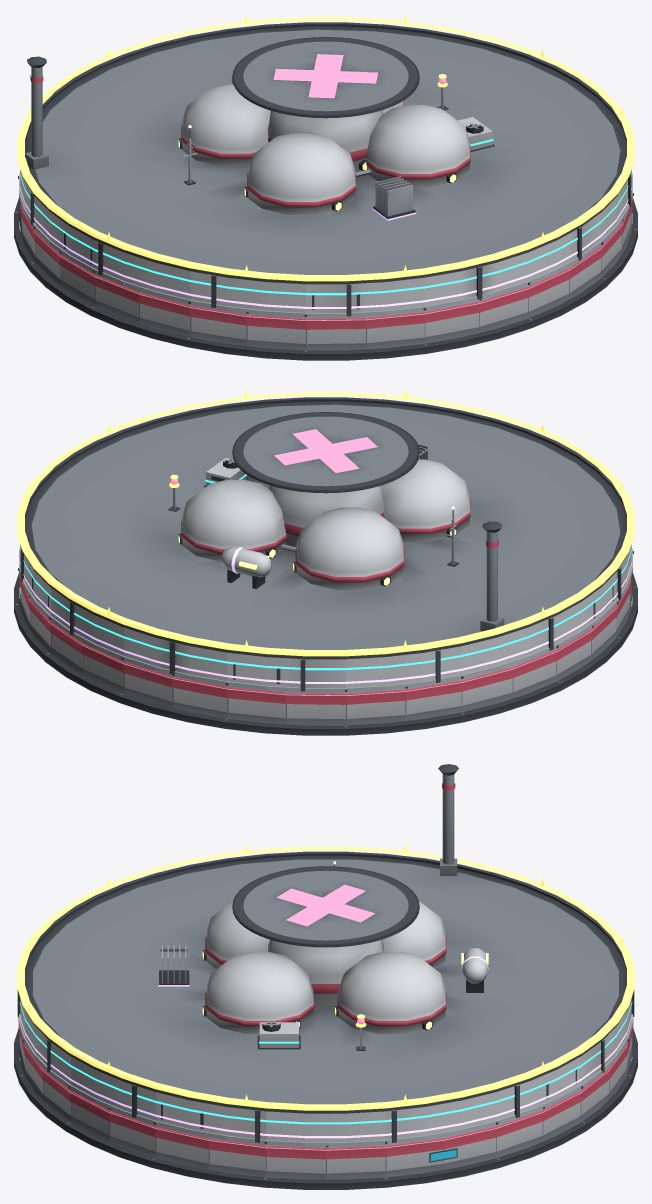
Rendered from bio_lab_xl.glb.
3 views of the same model, one above another, from view 1: azimuth 30°, elevation 25°; view 2: azimuth 150°, elevation 25°; view 3: azimuth 270°, elevation 25° (orthographic).
Parts seen in each view (by area): view 1: Roof, Base, Wall_21, Wall_20, Wall_22, Wall_19, Wall_23, Wall_18, Upper_20, Upper_22, Upper_19, Upper_21 (+22 smaller); view 2: Roof, Base, Wall_10, Wall_11, Wall_09, Wall_12, Wall_08, Upper_10, Wall_13, Upper_11, Upper_12, Upper_09 (+22 smaller); view 3: Roof, Base, Wall_00, Wall_31, Wall_30, L4, Wall_01, Wall_29, Upper_00, Upper_31, Upper_01, Upper_30 (+16 smaller).
Boxes of the visible parts, box(x1,y1,x2,y2) form: Roof: box(25, 22, 626, 281); Base: box(14, 197, 637, 360); Wall_21: box(306, 316, 365, 350); Wall_20: box(246, 312, 305, 350); Wall_22: box(366, 311, 424, 349); Wall_19: box(190, 305, 246, 345); Wall_23: box(424, 300, 479, 343); Wall_18: box(138, 291, 190, 337); Upper_20: box(246, 277, 305, 312); Upper_22: box(366, 275, 424, 311); Upper_19: box(190, 268, 246, 308); Upper_21: box(306, 280, 365, 316); Roof: box(25, 397, 626, 656); Base: box(14, 572, 637, 735); Wall_10: box(286, 691, 345, 725); Wall_11: box(346, 688, 405, 725); Wall_09: box(227, 686, 285, 724); Wall_12: box(405, 680, 461, 720); Wall_08: box(172, 674, 227, 718); Upper_10: box(286, 655, 345, 691); Wall_13: box(461, 666, 513, 712); Upper_11: box(346, 652, 405, 687); Upper_12: box(405, 643, 461, 683); Upper_09: box(227, 650, 285, 686); Roof: box(25, 764, 626, 1110); Base: box(14, 1028, 637, 1189); Wall_00: box(326, 1145, 385, 1179); Wall_31: box(266, 1145, 325, 1179); Wall_30: box(208, 1137, 266, 1177); L4: box(158, 945, 488, 992); Wall_01: box(385, 1137, 443, 1177); Wall_29: box(155, 1125, 208, 1169); Upper_00: box(326, 1108, 385, 1142); Upper_31: box(266, 1108, 325, 1142); Upper_01: box(385, 1101, 443, 1142); Upper_30: box(208, 1101, 266, 1142).
Size of the model in its own units: 21.35 by 6.9 by 21.35.
